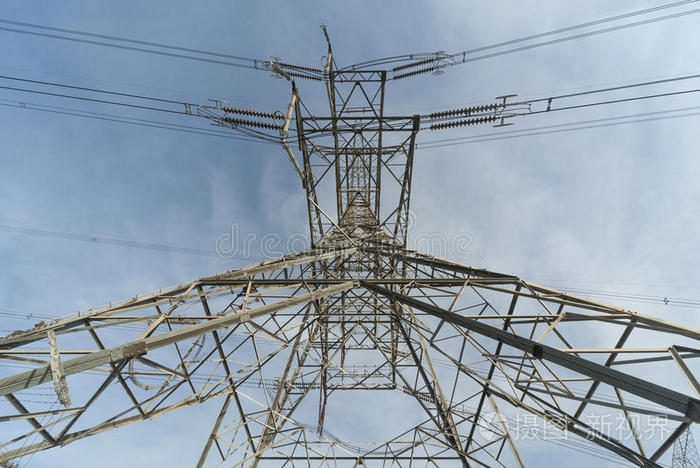insulator: (430, 101, 500, 130), (223, 104, 285, 129), (280, 61, 321, 82), (394, 58, 434, 79)
